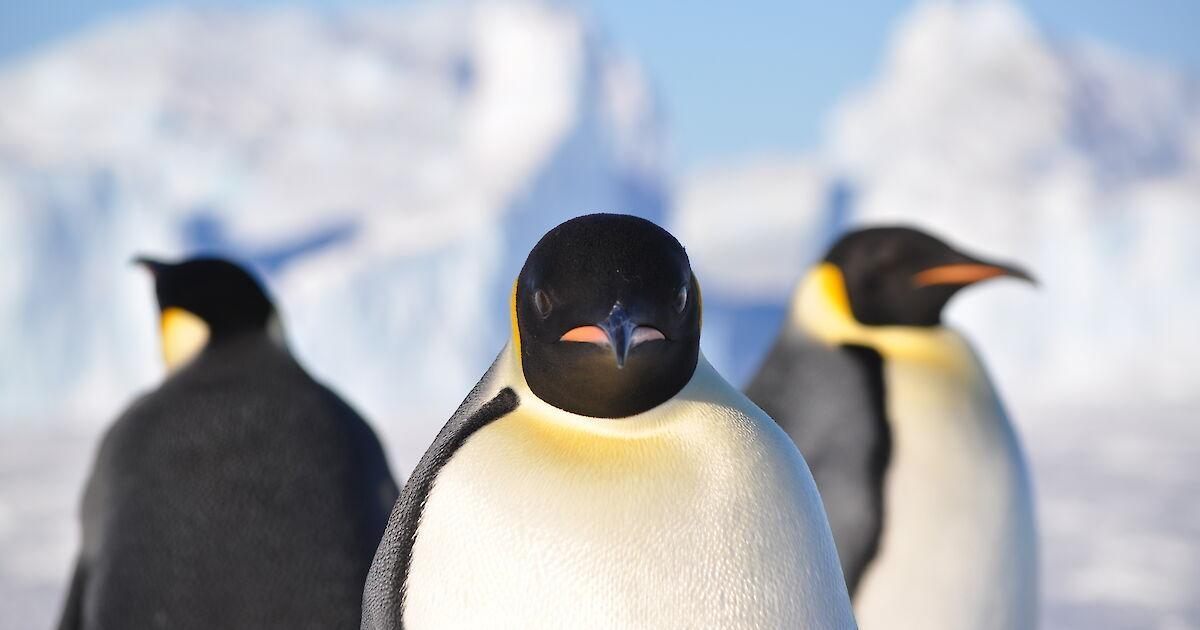Penguin: (361, 213, 855, 627), (61, 258, 398, 629), (745, 227, 1035, 627)
